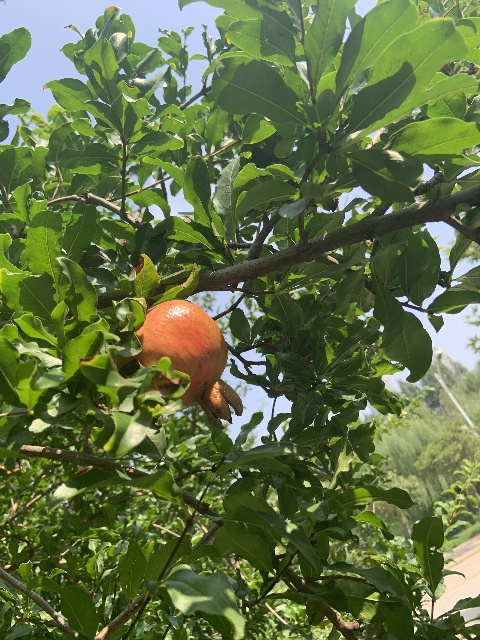ripe: (136, 299, 243, 429)
